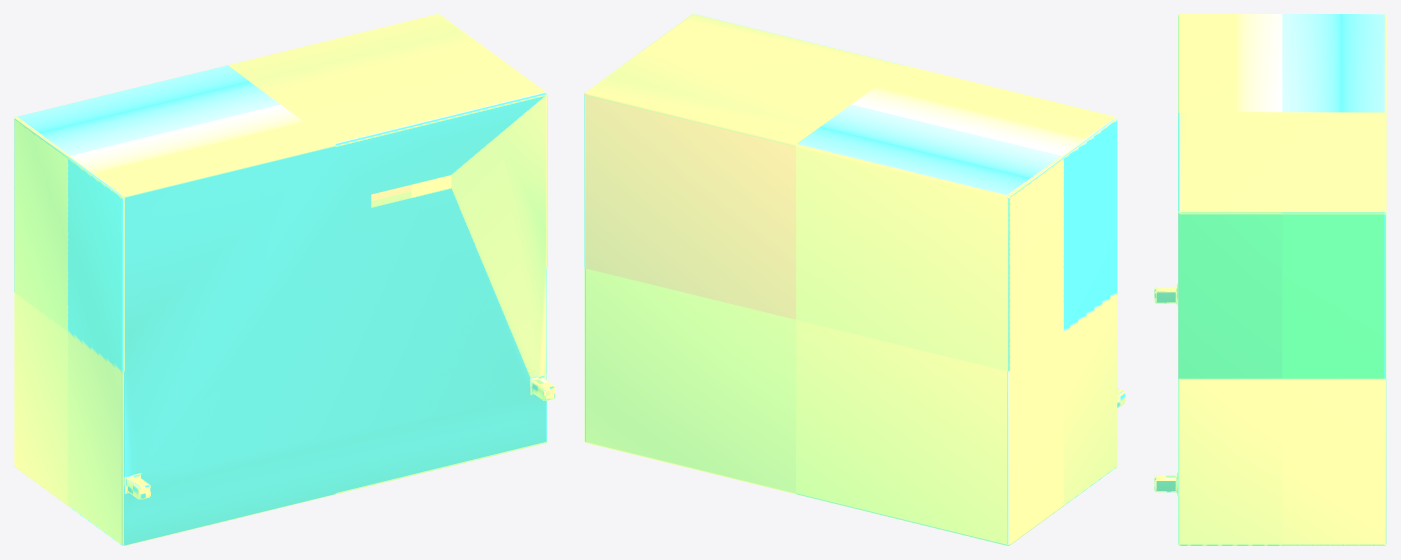
Rendered from garage-desk-crt.glb.
The picture shows the model from 3 angles, left to right: view 1: azimuth 30°, elevation 25°; view 2: azimuth 150°, elevation 25°; view 3: azimuth 270°, elevation 25°; orthographic projection. The views are drawn at different scales.
Visible parts, largest first — view 1: garage-desk-crt_export; view 2: garage-desk-crt_export; view 3: garage-desk-crt_export.
Boxes of the visible parts, left/top/right/bottom form: garage-desk-crt_export: left=14, top=14, right=555, bottom=545; garage-desk-crt_export: left=584, top=14, right=1125, bottom=545; garage-desk-crt_export: left=1154, top=14, right=1386, bottom=545.
Size of the model in its own units: 1.01 by 0.7956 by 0.4994.
1 material, 1 textured.
